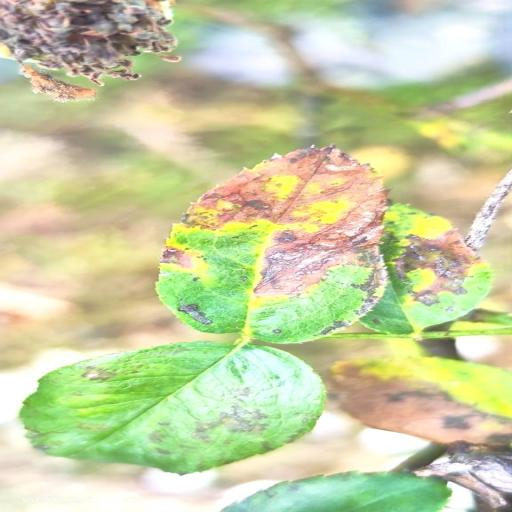thrip: (156, 146, 387, 343), (20, 342, 324, 474), (360, 203, 492, 334), (330, 356, 511, 444)
